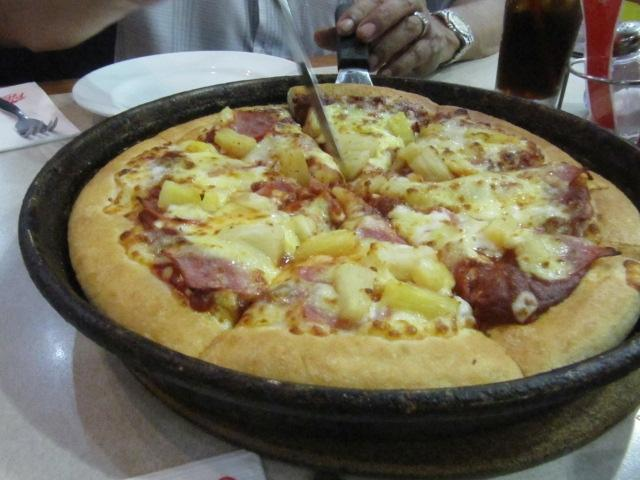pineapple: (366, 242, 454, 293), (379, 278, 462, 320), (222, 215, 286, 267), (333, 262, 376, 323), (294, 228, 362, 266), (274, 147, 310, 186), (214, 127, 258, 157), (156, 180, 202, 208), (484, 216, 518, 248), (338, 133, 380, 158), (388, 111, 414, 146), (283, 214, 314, 242), (343, 151, 371, 182), (284, 228, 304, 260), (397, 142, 426, 162), (186, 142, 210, 153)
